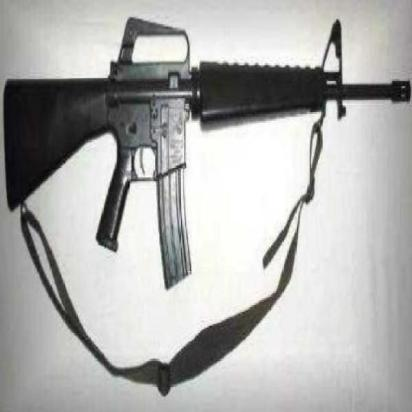Gun: (0, 8, 407, 291)
